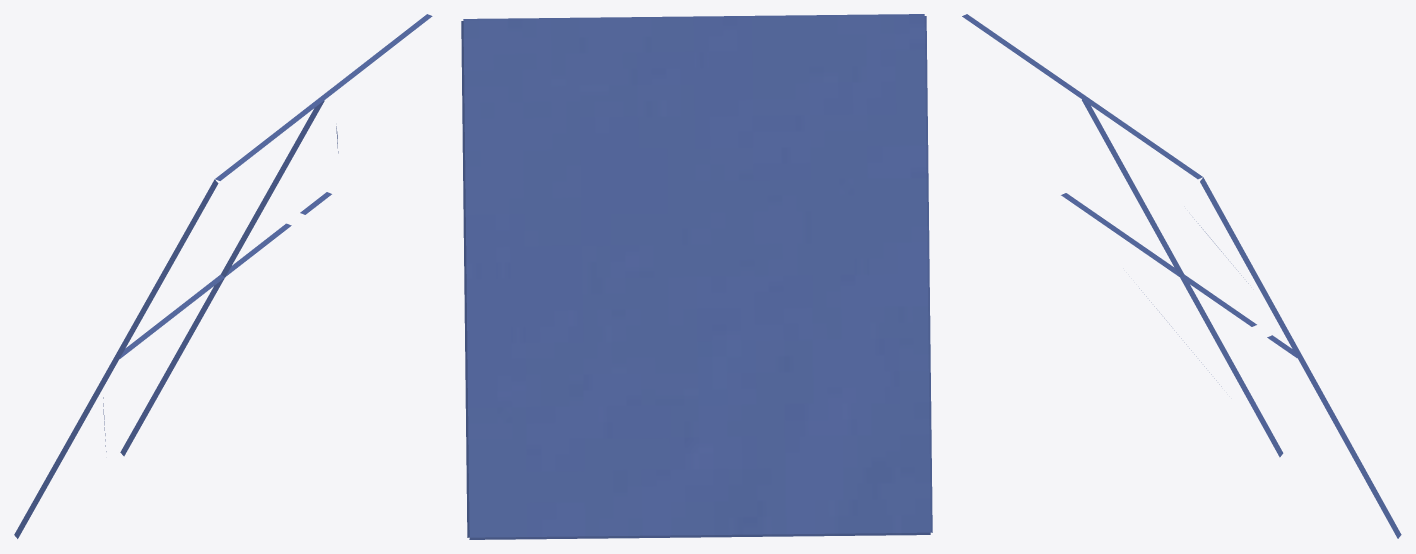
3 views of the same model, side by side, from view 1: azimuth 30°, elevation 25°; view 2: azimuth 150°, elevation 25°; view 3: azimuth 270°, elevation 25° (orthographic). The views are drawn at different scales.
Bounding box in the file's own units: 39545 × 35211 × 34000.
1 material, 1 textured.
